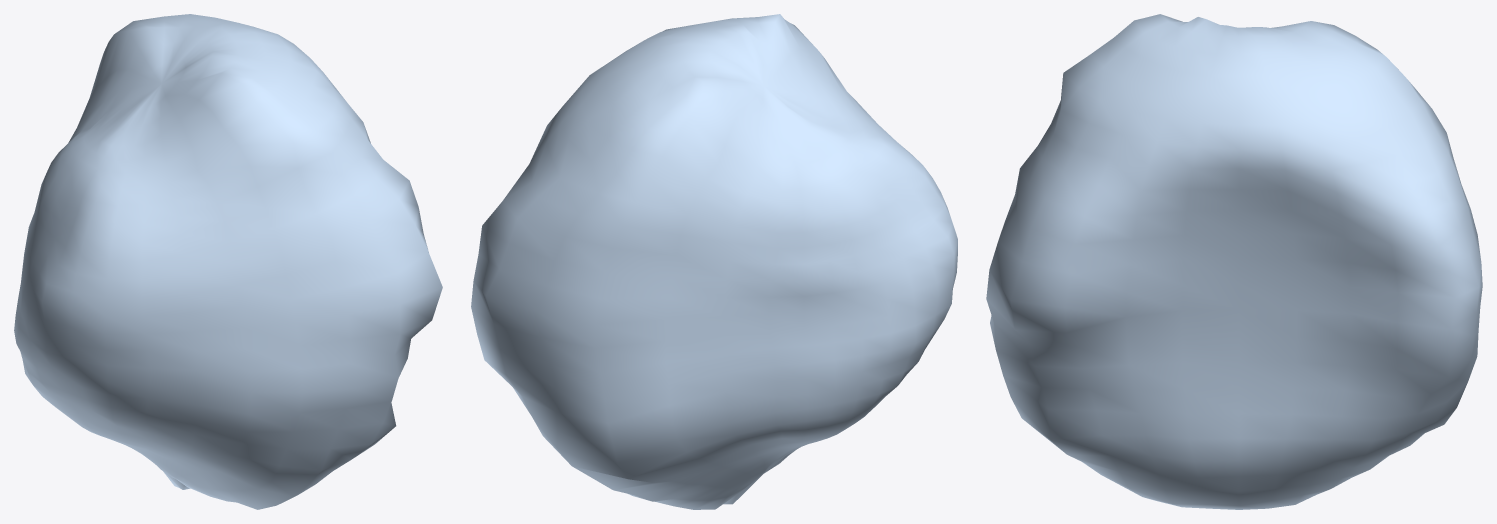
The model's file is hAsteroid2.obj.
The picture shows the model from 3 angles, left to right: view 1: azimuth 30°, elevation 25°; view 2: azimuth 150°, elevation 25°; view 3: azimuth 270°, elevation 25°; orthographic projection. The views are drawn at different scales.
Parts seen in each view (by area): view 1: sphere13; view 2: sphere13; view 3: sphere13.
Boxes of the visible parts, <box> form: sphere13: <box>14,14,442,509</box>; sphere13: <box>471,14,957,509</box>; sphere13: <box>986,14,1482,509</box>.
Size of the model in its own units: 97.78 by 122 by 116.
